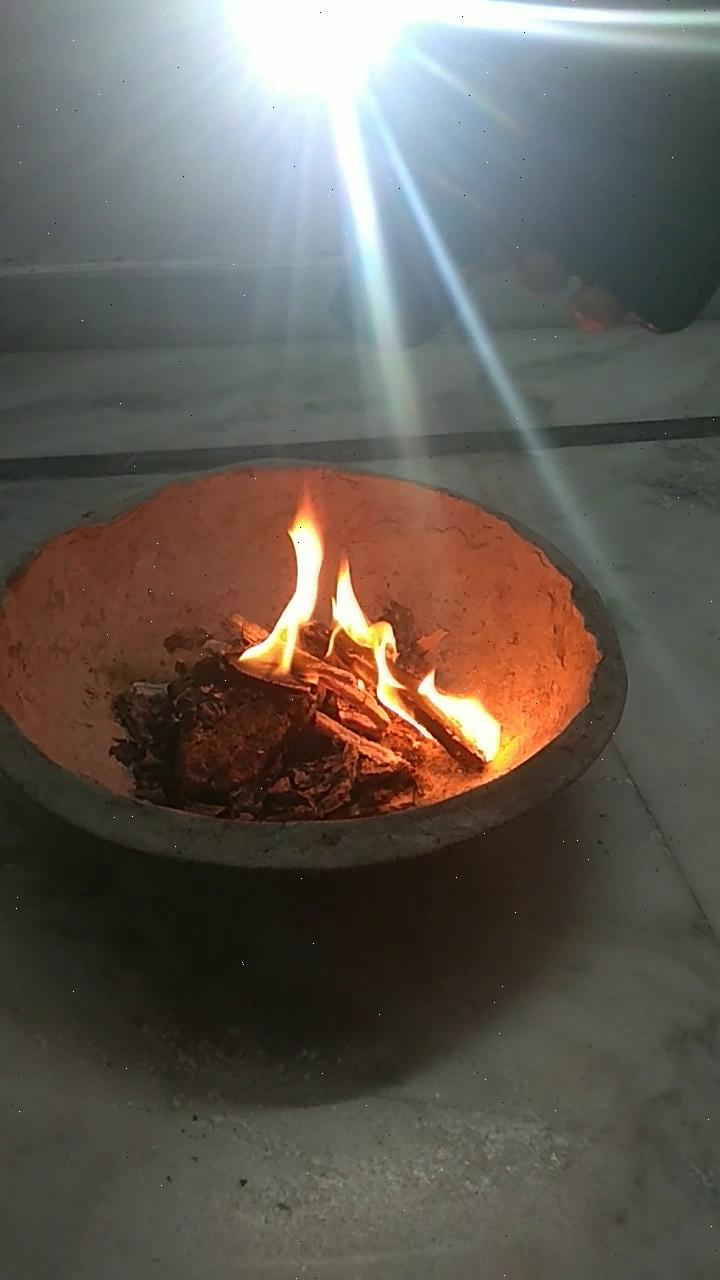fire: (246, 493, 509, 771)
